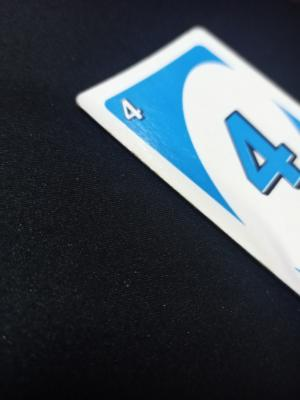blue: (118, 81, 276, 161)
num_4: (111, 94, 149, 129)
